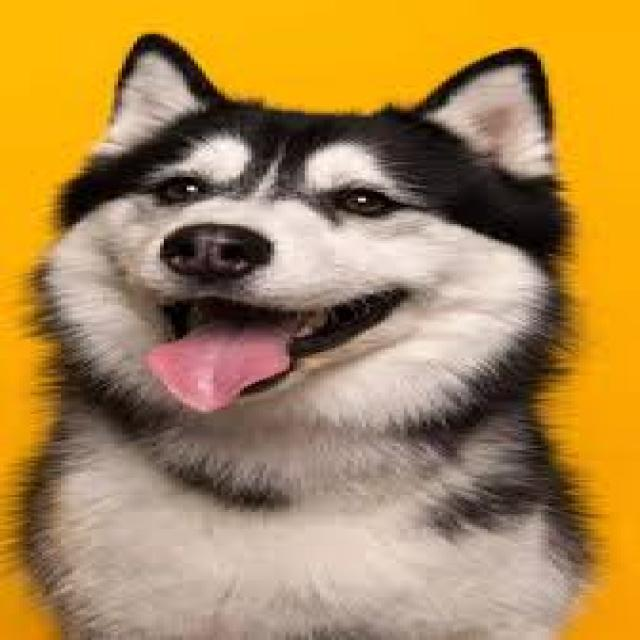DOG: (11, 32, 602, 638)
